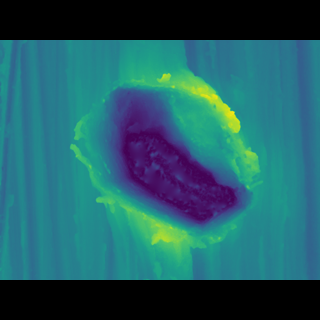Loch: (65, 88, 270, 230)
